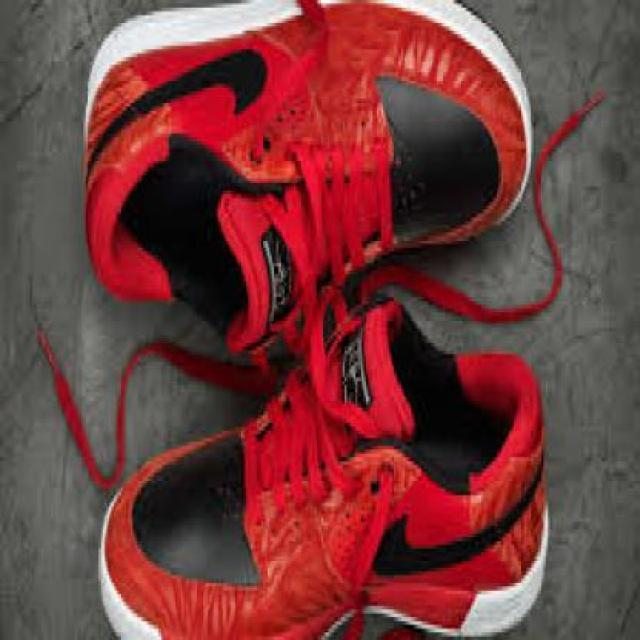Nike: (86, 38, 269, 157), (370, 499, 543, 576)
